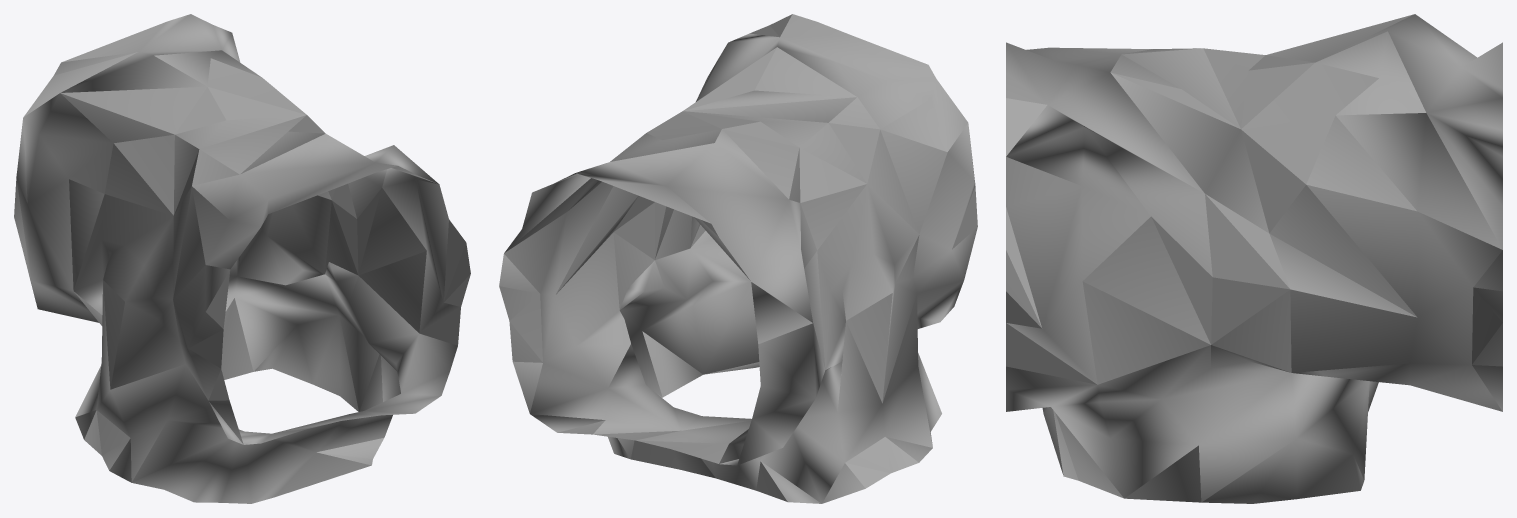
Rendered from TVertical2Connector.fbx.
The picture shows the model from 3 angles, left to right: view 1: azimuth 30°, elevation 25°; view 2: azimuth 150°, elevation 25°; view 3: azimuth 270°, elevation 25°; orthographic projection. The views are drawn at different scales.
Parts seen in each view (by area): view 1: TVertical2Connector; view 2: TVertical2Connector; view 3: TVertical2Connector.
Boxes of the visible parts, <box> form: TVertical2Connector: <box>14,14,470,503</box>; TVertical2Connector: <box>499,14,977,503</box>; TVertical2Connector: <box>1006,14,1502,503</box>.
Bounding box in the file's own units: 387 × 441 × 500.
